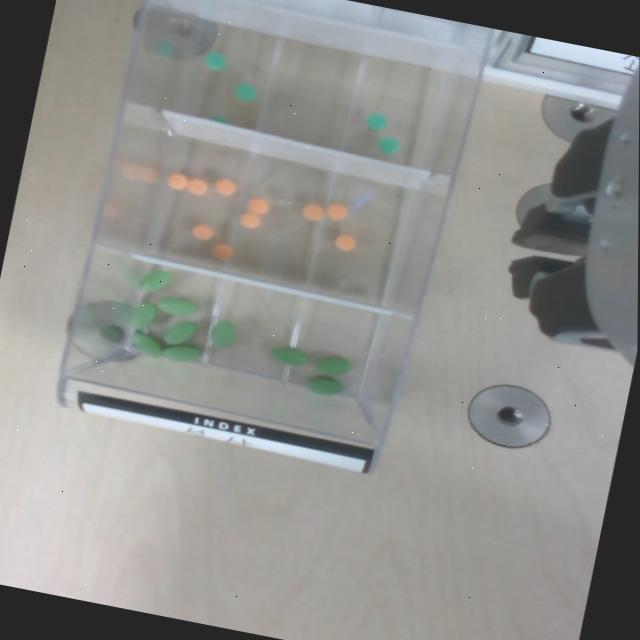famodine: (200, 48, 228, 70), (232, 82, 257, 102), (377, 134, 399, 154), (365, 112, 387, 130)
otillen_tab: (266, 342, 311, 368), (136, 264, 172, 296), (310, 352, 353, 378), (303, 372, 344, 397), (161, 317, 196, 346), (161, 340, 200, 366), (128, 331, 165, 357), (127, 300, 158, 330), (156, 294, 196, 317), (208, 319, 235, 351)
samsung_octylonium_tab: (237, 209, 263, 230), (324, 201, 349, 221), (211, 242, 235, 262), (166, 170, 189, 190), (186, 176, 209, 196), (213, 176, 236, 196), (246, 197, 270, 216), (333, 232, 357, 251), (302, 202, 324, 222), (192, 223, 214, 241)
